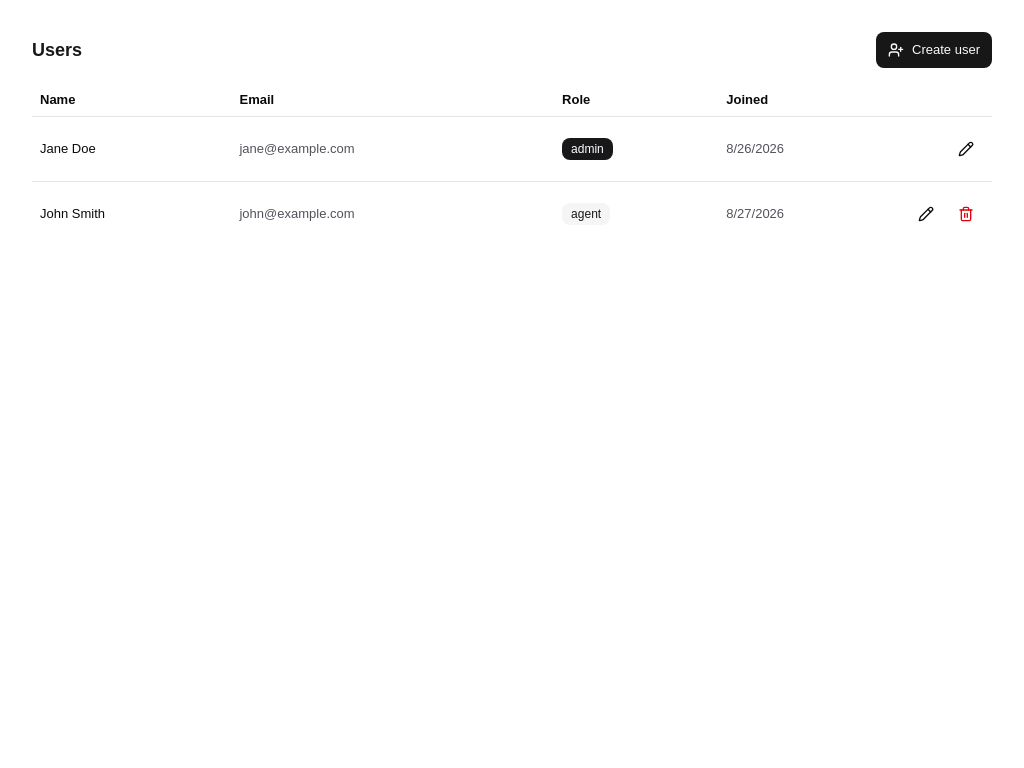
Users › opens the create-user dialog and validates the form
Expected: the cell "Jane Doe" is shown, [32,116,232,181]
Click the button "Create user" at x=934, y=50, box [876,32,992,68]
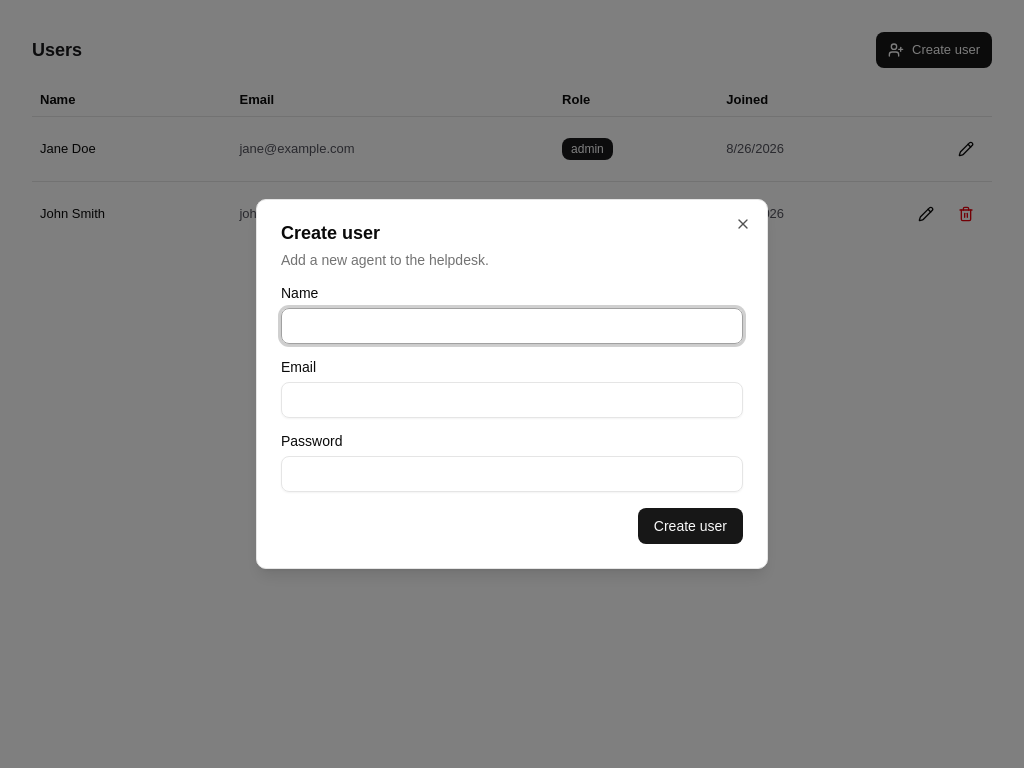
Expected: the heading "Create user" is shown, [281,223,380,243]
Click the button "Create user" at x=690, y=526, box [638,508,743,544]
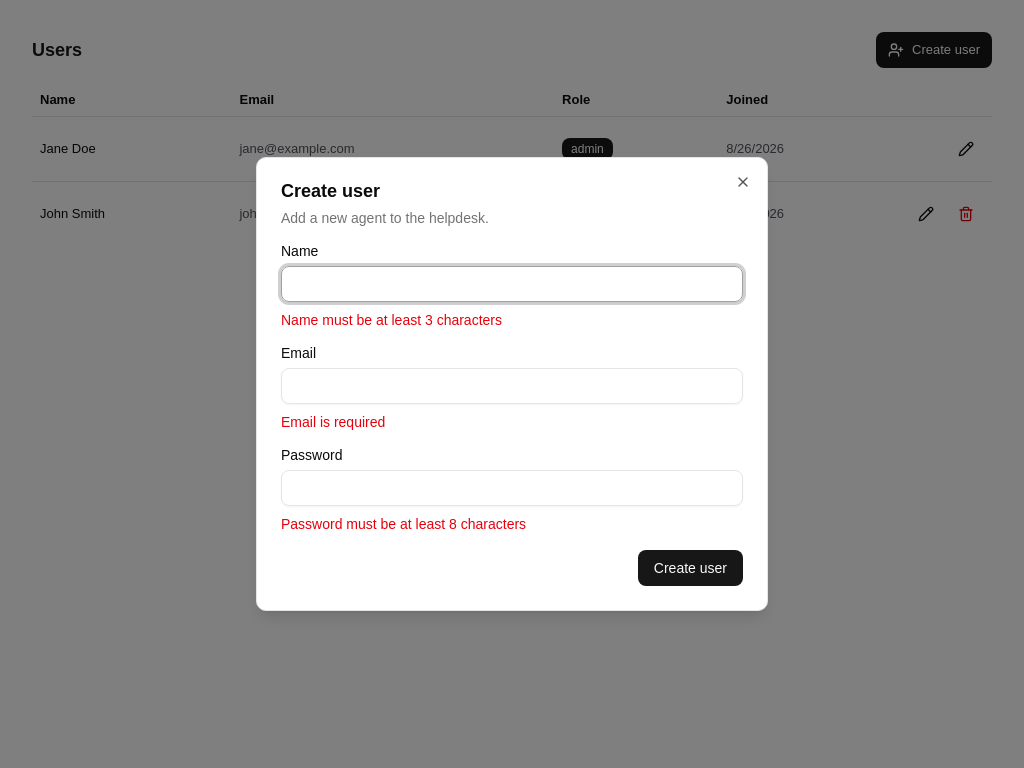
Expected: the text "Name must be at least 3 characters" is shown, [281,312,502,328]
Expected: the text "Password must be at least 8 characters" is shown, [281,516,526,532]
